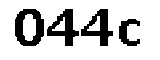0: (7, 5, 46, 49)
4: (79, 3, 116, 52), (46, 5, 80, 49)
c: (117, 16, 145, 49)
